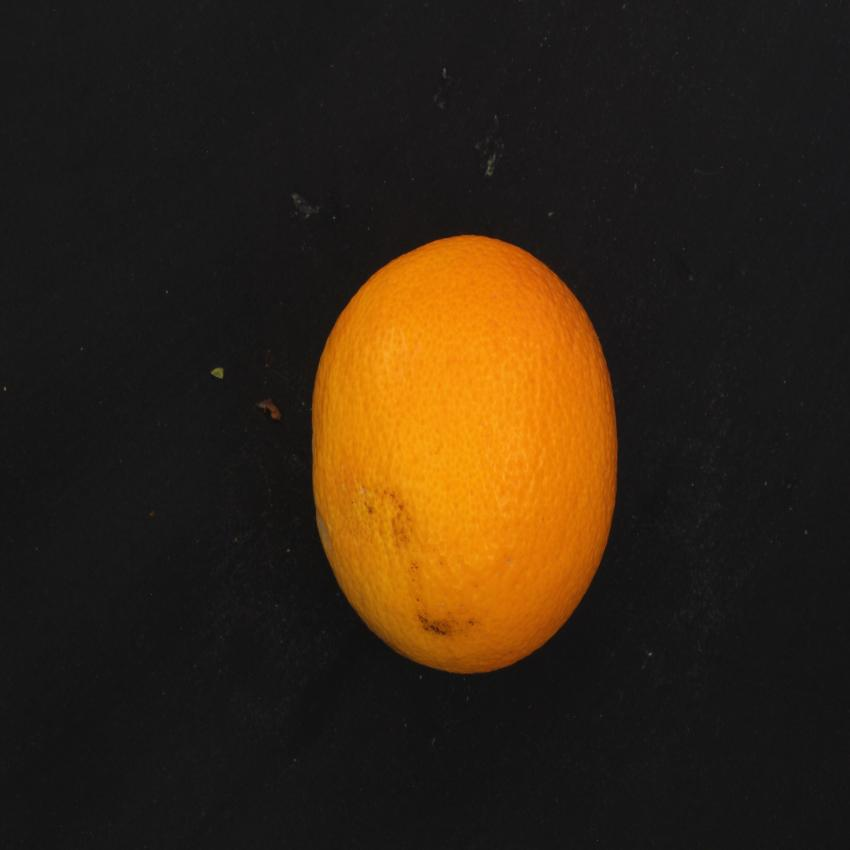Buen estado: (253, 224, 629, 692)
